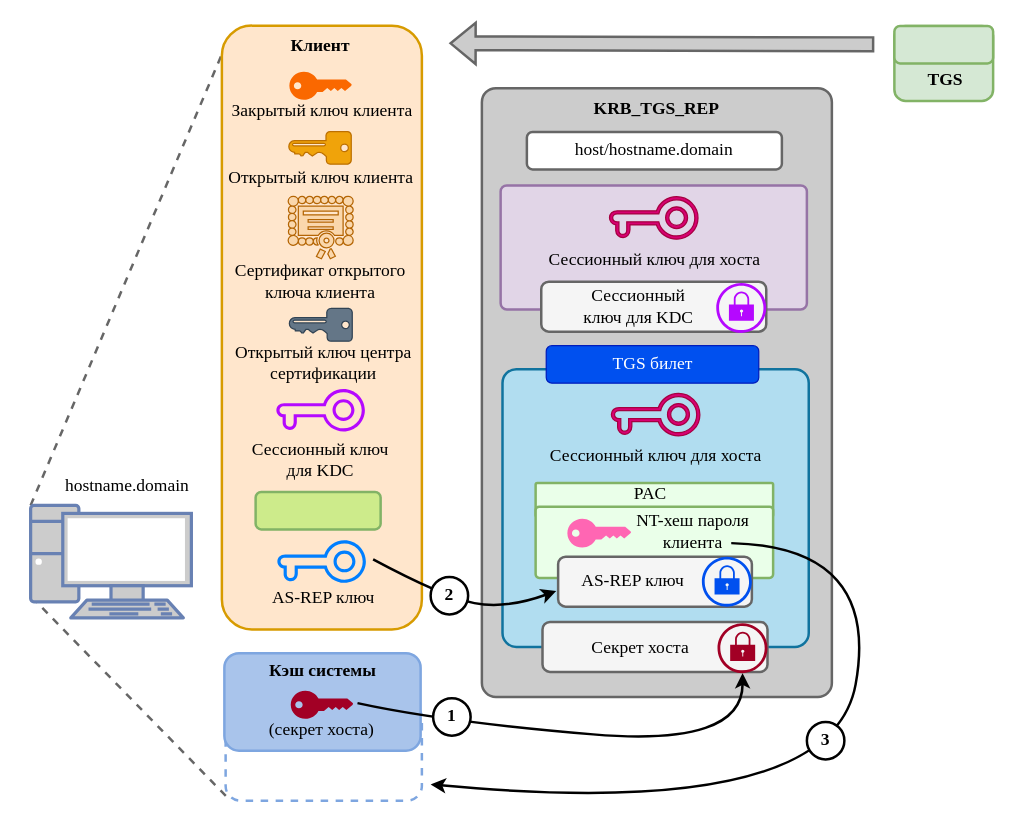
Image size: 1015x824. Some labels were removed from this diagram. The centre of each missing label's shape, as x and y in pixels:
"KDC" goes at (943,44).
"TGT билет" goes at (317,510).
